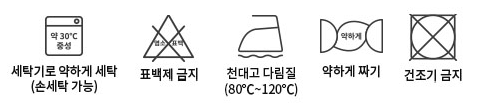KR_gentle_wring: (316, 14, 386, 62)
KR_no_chlorine_bleach: (142, 11, 198, 64)
KR_no_tumble_dry: (406, 10, 461, 65)
KR_wash_warm_30_neutral: (42, 11, 87, 58)
